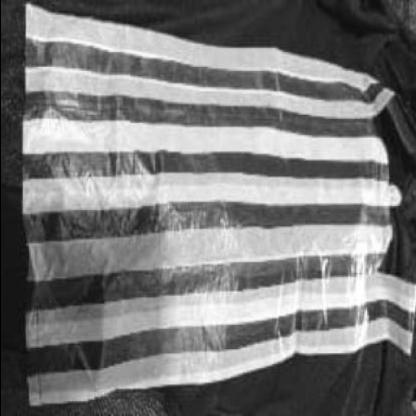objects: (20, 0, 416, 414)
